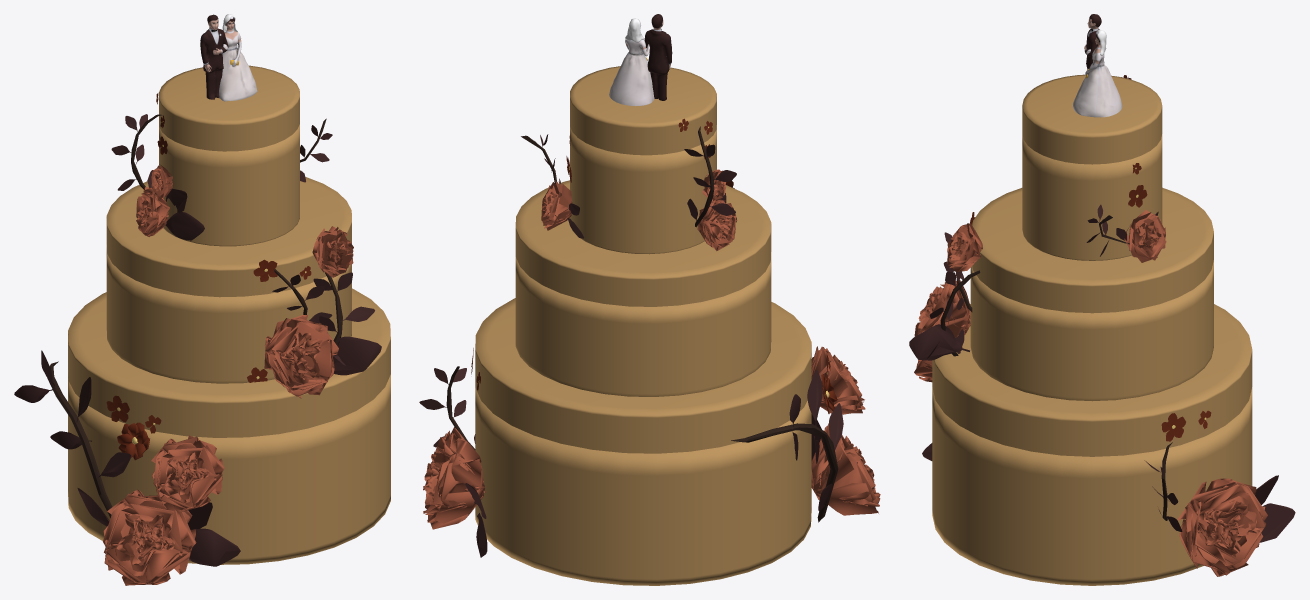
The model's file is 3-tier-caramel-roses-bridegroom.glb.
3 views of the same model, side by side, from view 1: azimuth 30°, elevation 25°; view 2: azimuth 150°, elevation 25°; view 3: azimuth 270°, elevation 25° (orthographic). The views are drawn at different scales.
Visible parts, largest first — view 1: Cylinder.022, Cylinder.014, Cylinder.021, grid.042, grid.044, grid.040, Plane.093, 13501_Cake_Topper_Bride_Groom_v1_L1.002, grid.043, Plane.087, Plane.091, Plane.095 (+7 smaller); view 2: Cylinder.022, Cylinder.014, Cylinder.021, grid.029, 13501_Cake_Topper_Bride_Groom_v1_L1.002, grid.042, Plane.093, grid.040, grid.045, Plane.092, grid.047, Plane.084; view 3: Cylinder.022, Cylinder.014, Cylinder.021, grid.029, 13501_Cake_Topper_Bride_Groom_v1_L1.002, grid.044, grid.047, Plane.087, grid.043, Plane.095, Plane.082, Plane.084 (+1 smaller).
Boxes of the visible parts, bbox=[...] form: Cylinder.022: bbox=[68, 288, 390, 564]; Cylinder.014: bbox=[106, 177, 351, 383]; Cylinder.021: bbox=[159, 65, 299, 246]; grid.042: bbox=[103, 489, 196, 585]; grid.044: bbox=[264, 314, 338, 398]; grid.040: bbox=[151, 435, 224, 512]; Plane.093: bbox=[14, 350, 131, 526]; 13501_Cake_Topper_Bride_Groom_v1_L1.002: bbox=[200, 14, 257, 101]; grid.043: bbox=[312, 226, 353, 277]; Plane.087: bbox=[333, 336, 381, 375]; Plane.091: bbox=[189, 528, 240, 566]; Plane.095: bbox=[313, 272, 374, 365]; Cylinder.022: bbox=[475, 298, 811, 585]; Cylinder.014: bbox=[515, 180, 771, 396]; Cylinder.021: bbox=[570, 66, 716, 254]; grid.029: bbox=[423, 427, 484, 529]; 13501_Cake_Topper_Bride_Groom_v1_L1.002: bbox=[609, 14, 672, 106]; grid.042: bbox=[811, 423, 880, 515]; Plane.093: bbox=[731, 369, 843, 522]; grid.040: bbox=[811, 346, 865, 414]; grid.045: bbox=[697, 200, 737, 250]; Plane.092: bbox=[684, 126, 736, 227]; grid.047: bbox=[541, 180, 572, 230]; Plane.084: bbox=[419, 366, 475, 450]; Cylinder.022: bbox=[932, 304, 1252, 585]; Cylinder.014: bbox=[970, 187, 1213, 401]; Cylinder.021: bbox=[1022, 74, 1162, 260]; grid.029: bbox=[1177, 478, 1267, 576]; 13501_Cake_Topper_Bride_Groom_v1_L1.002: bbox=[1073, 14, 1122, 117]; grid.044: bbox=[914, 279, 970, 337]; grid.047: bbox=[1124, 210, 1166, 262]; Plane.087: bbox=[909, 324, 969, 360]; grid.043: bbox=[947, 223, 982, 271]; Plane.095: bbox=[927, 270, 980, 358]; Plane.082: bbox=[1259, 503, 1295, 542]; Plane.084: bbox=[1144, 442, 1182, 531].
Bounding box in the file's own units: 5.28 × 6.96 × 4.9.
Materials: 7 (1 with a texture image).
